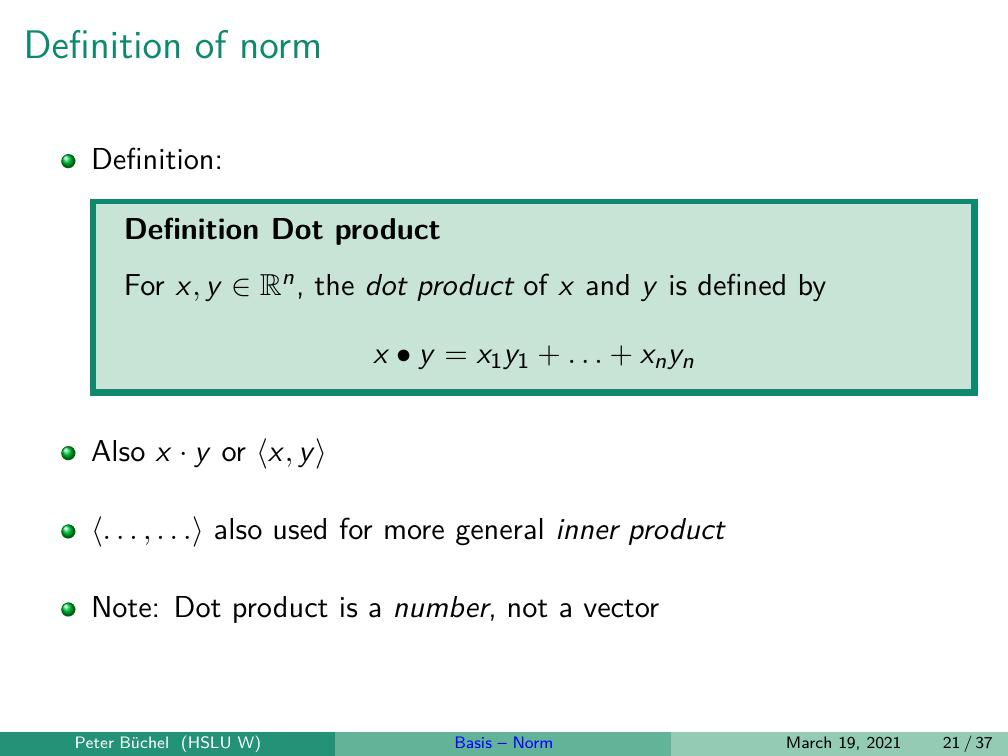Title: (16, 21, 324, 74)
